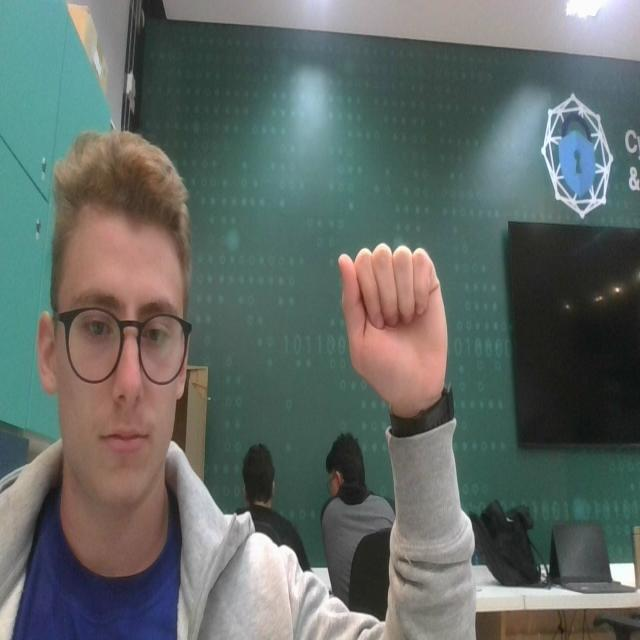A: (331, 229, 484, 459)
